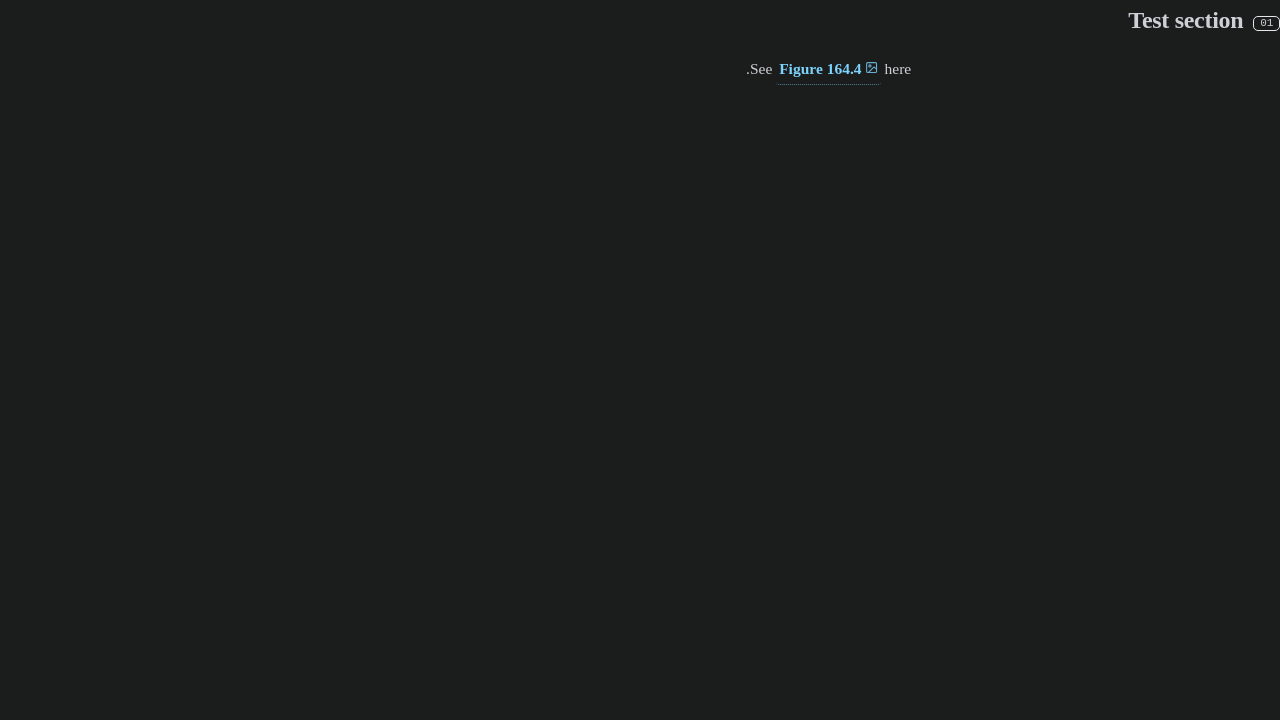
Media reader pipeline — Phase 2 registry resolution › unmatched reference (registry empty) → fallback dialog identical to Phase 1
Click the button "Figure 164.4": point(828, 70) x1=776 y1=54 x2=881 y2=85
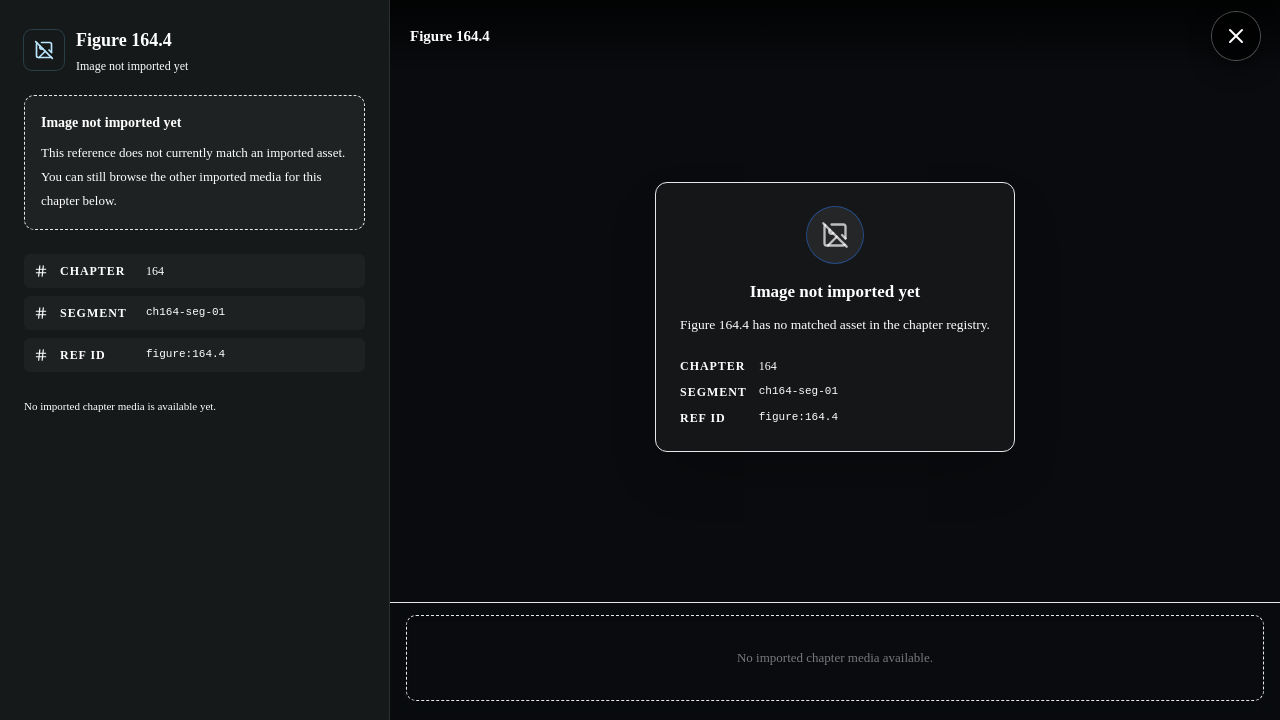
Result: the text "Image not imported yet" is shown at x1=76 y1=59 x2=188 y2=73
Result: the text "figure:164.4" is shown at x1=146 y1=348 x2=225 y2=360
